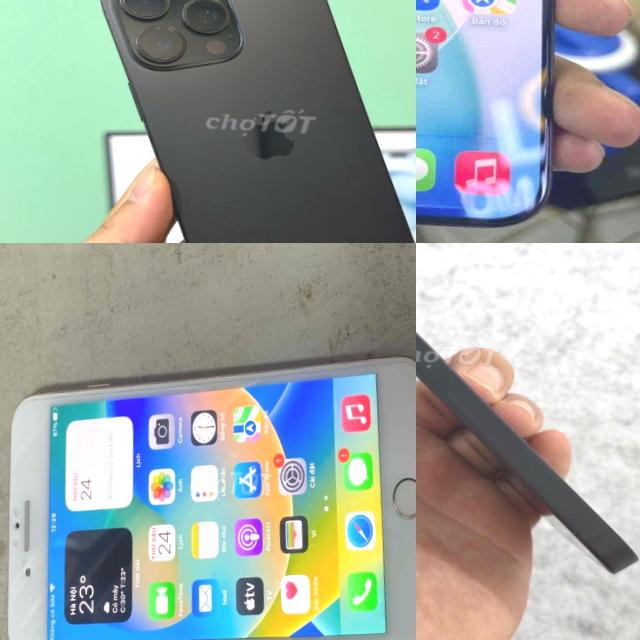scratch: (390, 491, 416, 526)
